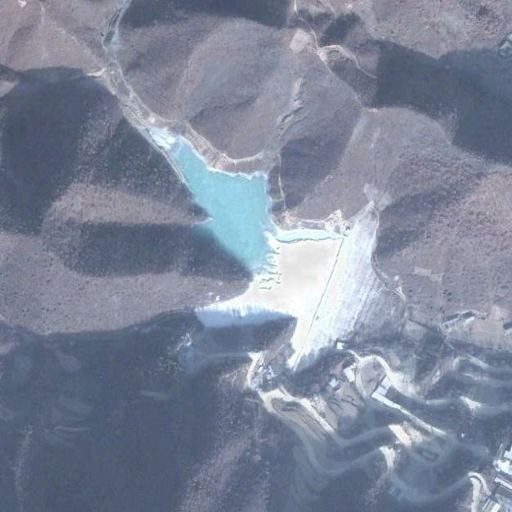tp: (151, 125, 403, 371)
